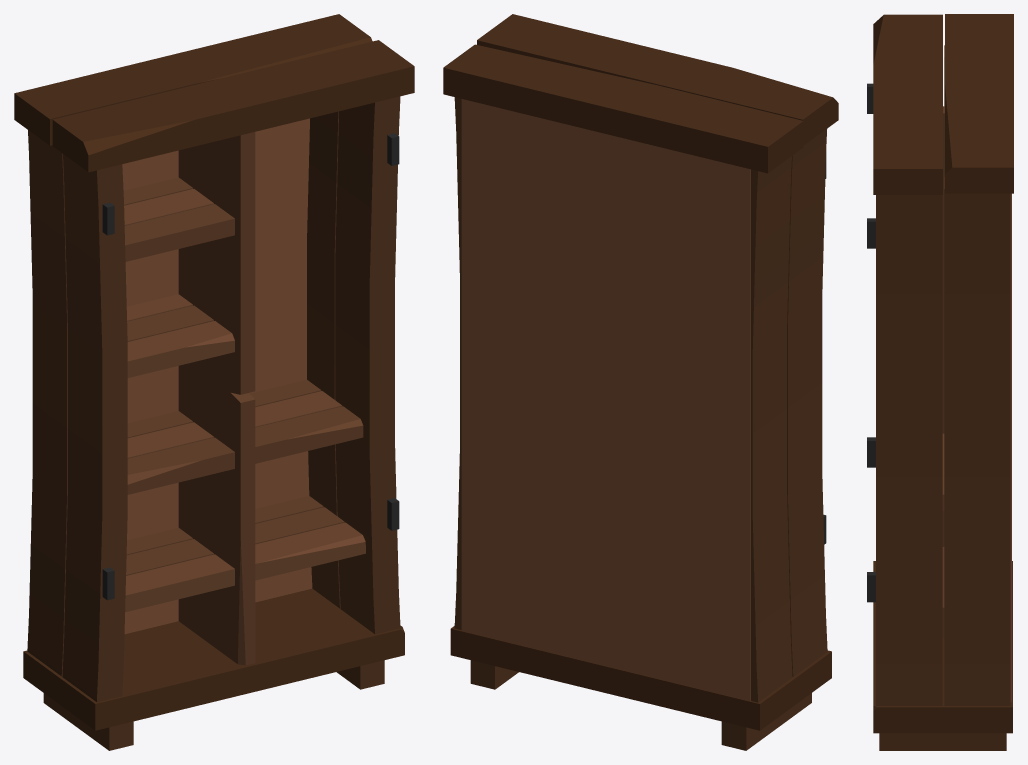
The model's file is Furniture_03.glb.
3 renders of one model, left to right at view 1: azimuth 30°, elevation 25°; view 2: azimuth 150°, elevation 25°; view 3: azimuth 270°, elevation 25°, orthographic. The views are drawn at different scales.
Parts seen in each view (by area): view 1: Furniture_03_LOD0; view 2: Furniture_03_LOD0; view 3: Furniture_03_LOD0.
Part boxes in pixels (x1,y1,x2,y2): Furniture_03_LOD0: (14, 14, 414, 750); Furniture_03_LOD0: (443, 14, 838, 750); Furniture_03_LOD0: (867, 14, 1013, 750).
Size of what is drawn, in the model's own units: 1.29 by 2.3 by 0.5142.
Materials: 1 (1 with a texture image).
